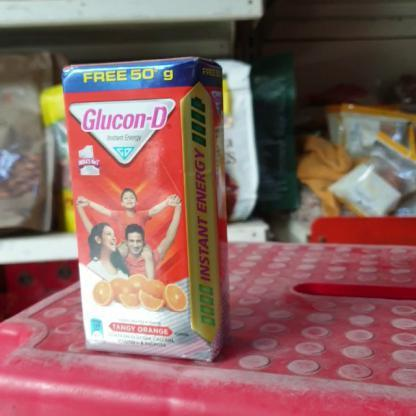Glucon D Tangy orange 1-KG: (71, 58, 212, 350)
